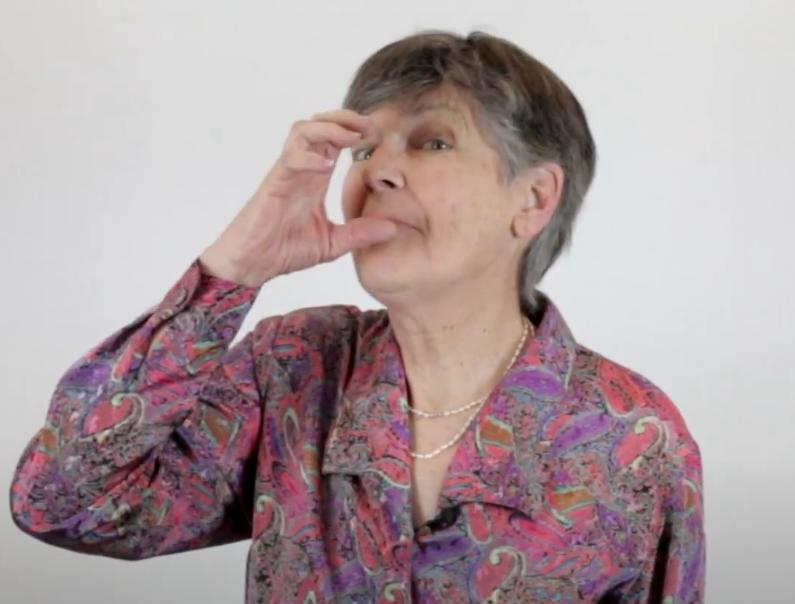drink: (202, 103, 403, 309)
